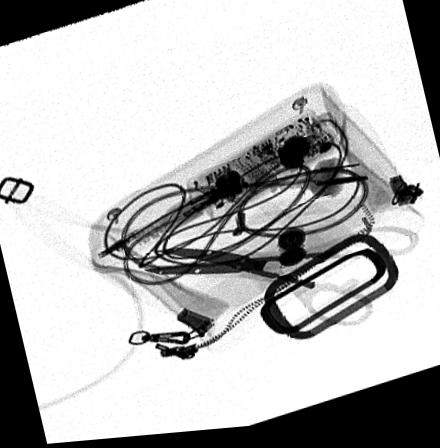Scissors: (139, 231, 421, 335)
